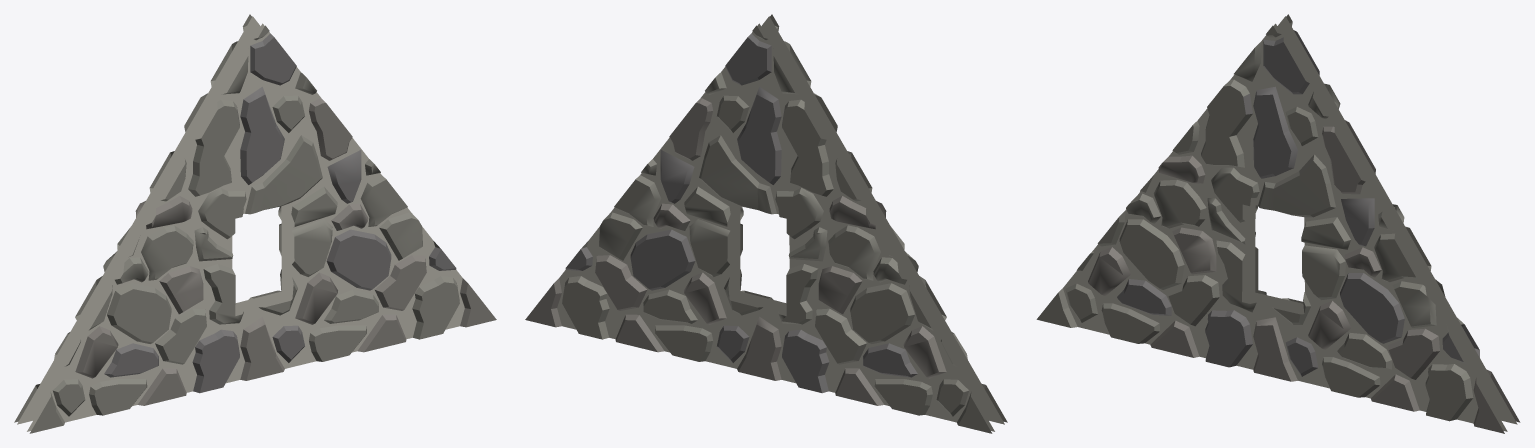
Rendered from rpgpp_ag_roof_end_01_6x5_wall_window_04d.fbx.
The picture shows the model from 3 angles, left to right: view 1: azimuth 30°, elevation 25°; view 2: azimuth 150°, elevation 25°; view 3: azimuth 330°, elevation 25°; orthographic projection.
Visible parts, largest first — view 1: rpgpp_ag_roof_end_01_6x5_wall_window_04d; view 2: rpgpp_ag_roof_end_01_6x5_wall_window_04d; view 3: rpgpp_ag_roof_end_01_6x5_wall_window_04d.
Part boxes in pixels (x1,y1,x2,y2): rpgpp_ag_roof_end_01_6x5_wall_window_04d: (14, 14, 496, 433); rpgpp_ag_roof_end_01_6x5_wall_window_04d: (525, 14, 1007, 433); rpgpp_ag_roof_end_01_6x5_wall_window_04d: (1036, 14, 1520, 433).
Size of the model in its own units: 6.38 by 4.58 by 0.404.
